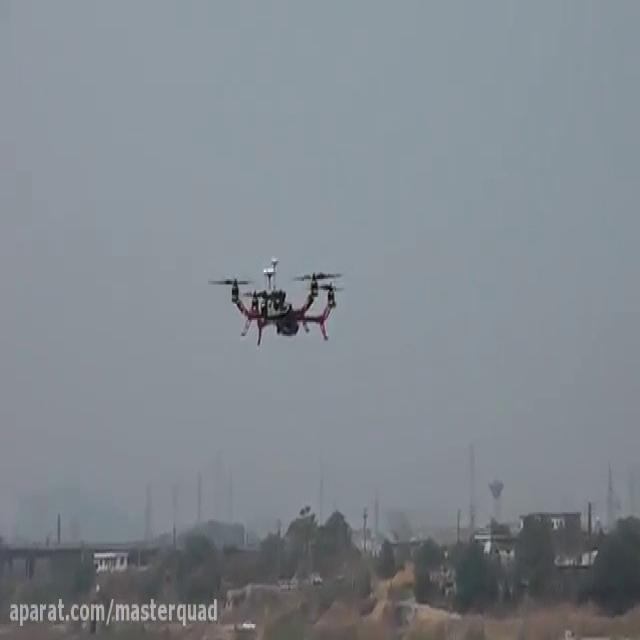drone: (202, 250, 352, 348)
